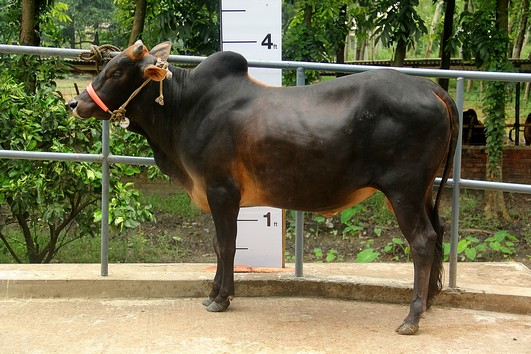cow: (65, 35, 462, 337)
